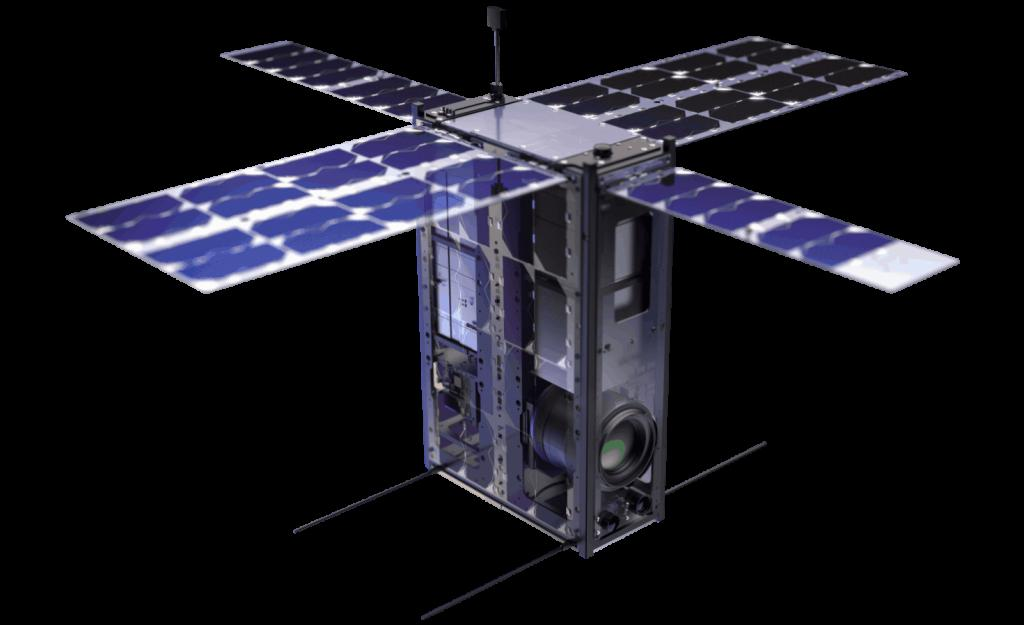antenna: (419, 536, 577, 621), (292, 463, 444, 537), (662, 438, 771, 498)
body: (417, 88, 684, 562)
solar: (63, 121, 571, 299), (608, 165, 962, 296), (520, 33, 910, 148), (219, 38, 469, 126)
